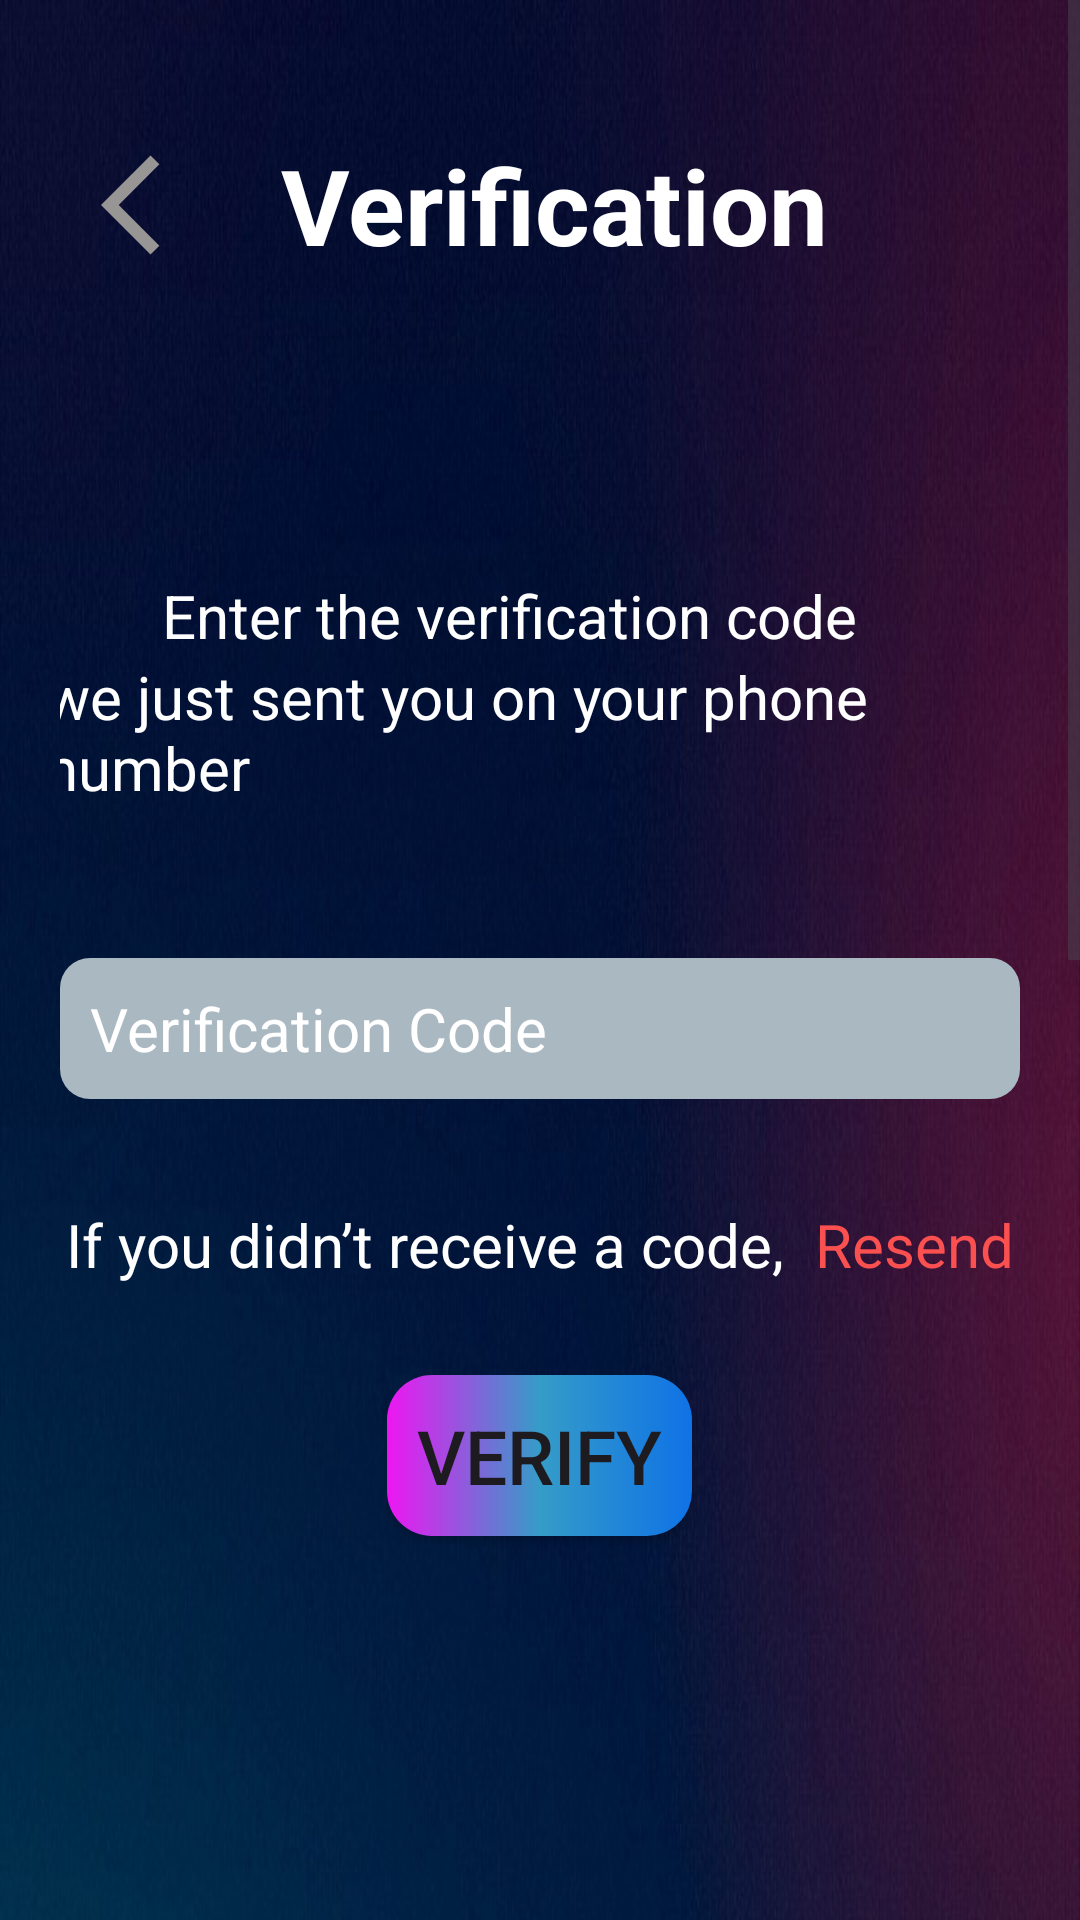

Icons on this 1080*1920 Android screen, each with its box as rect(x1, y1, x2, y2):
arrow back: rect(101, 155, 159, 255)
